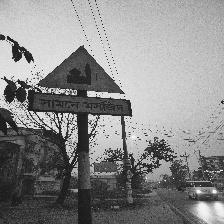Mosque in front: (32, 46, 131, 117)
